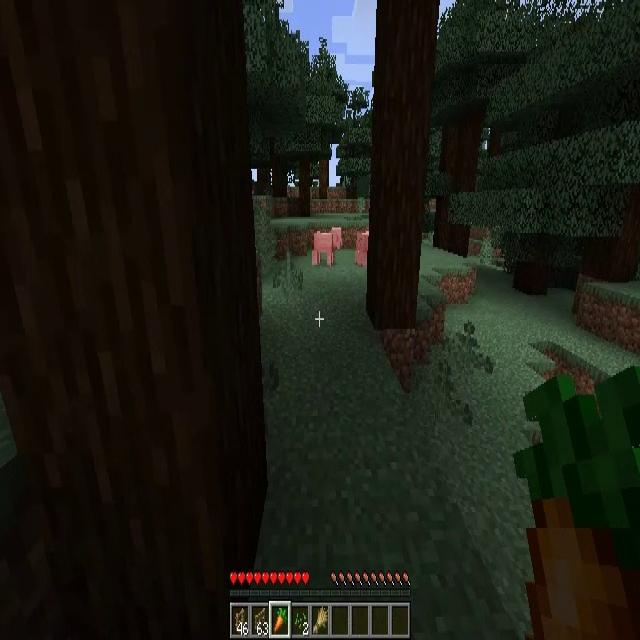pig: (313, 228, 341, 268), (354, 228, 369, 268)
